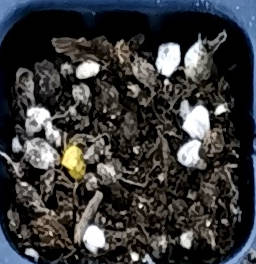pepper seed: (15, 53, 104, 235)
